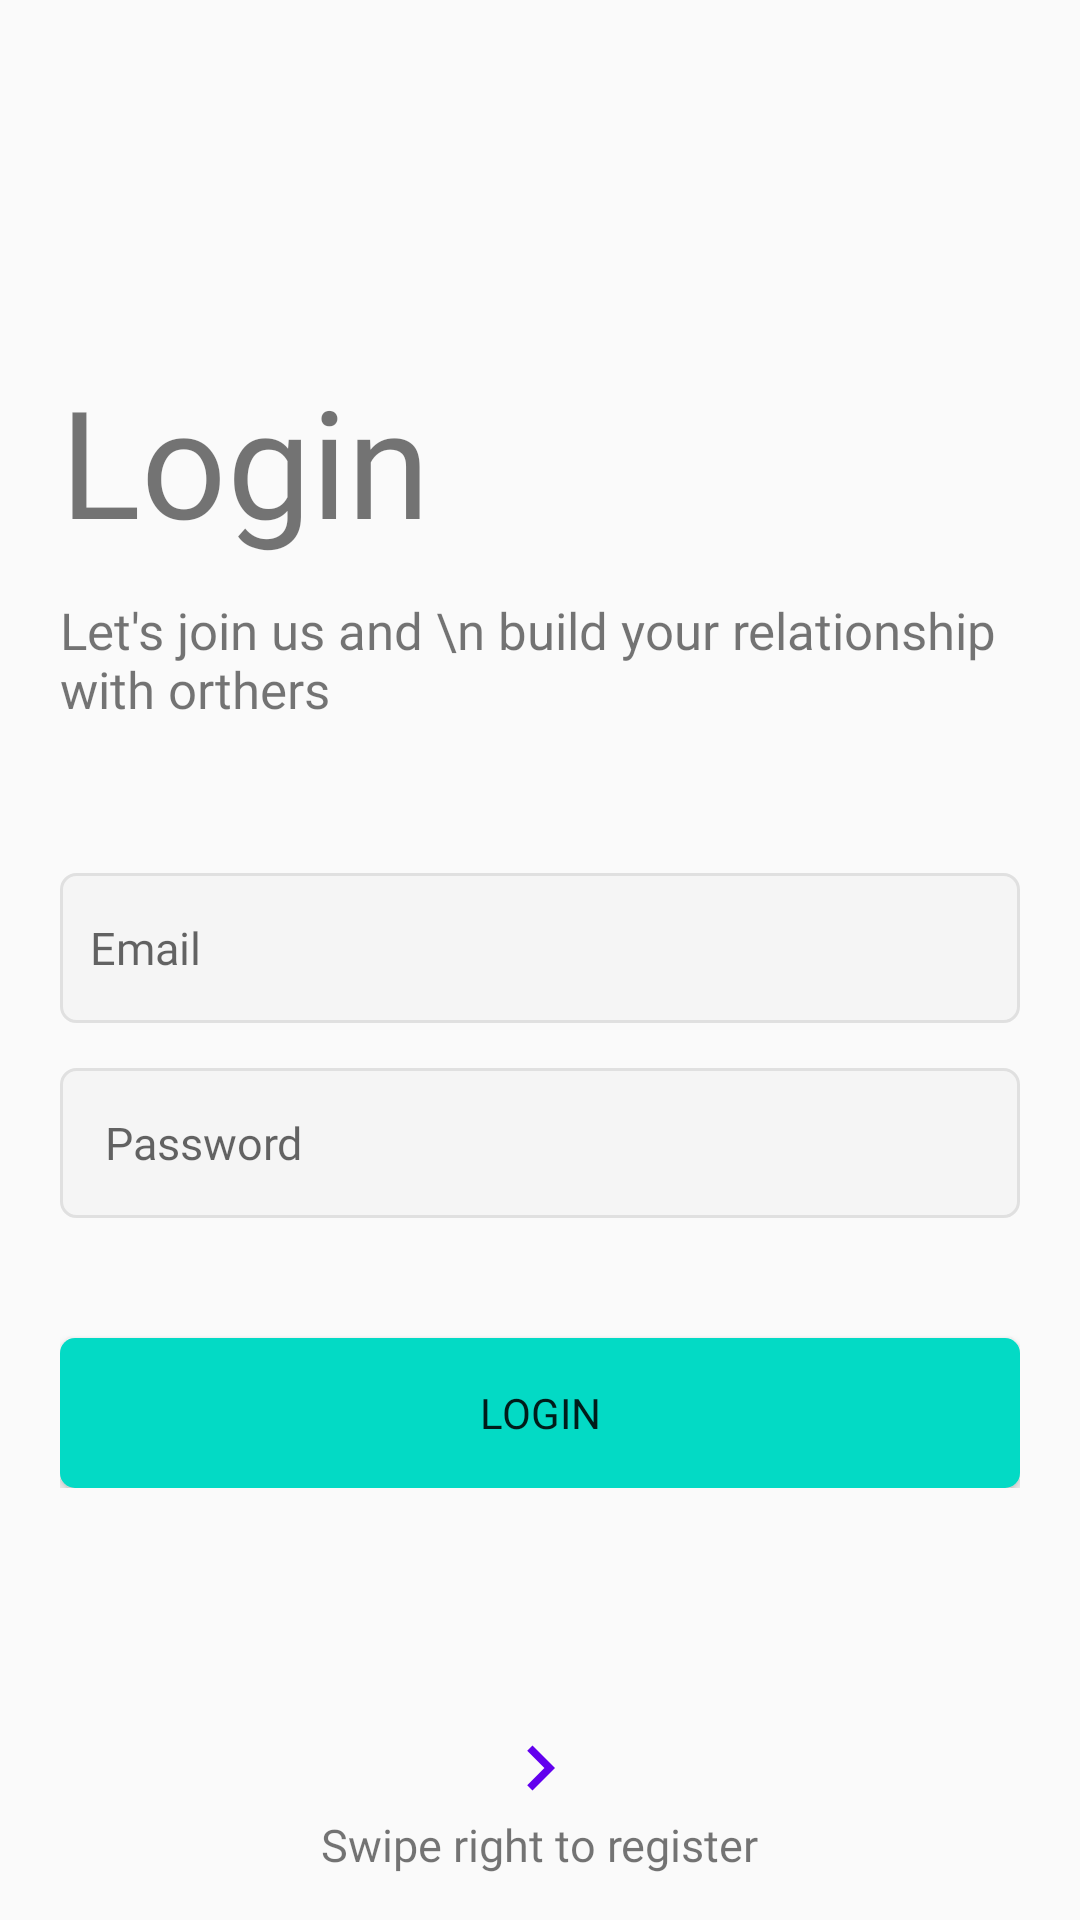

Point at icon controls on the screen. Image size 1080*1920, points as (x,y).
arrow right: (541,1768)
